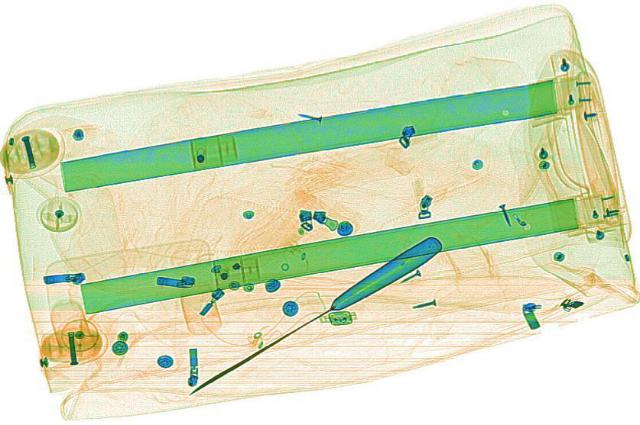Knife: (179, 235, 449, 400)
